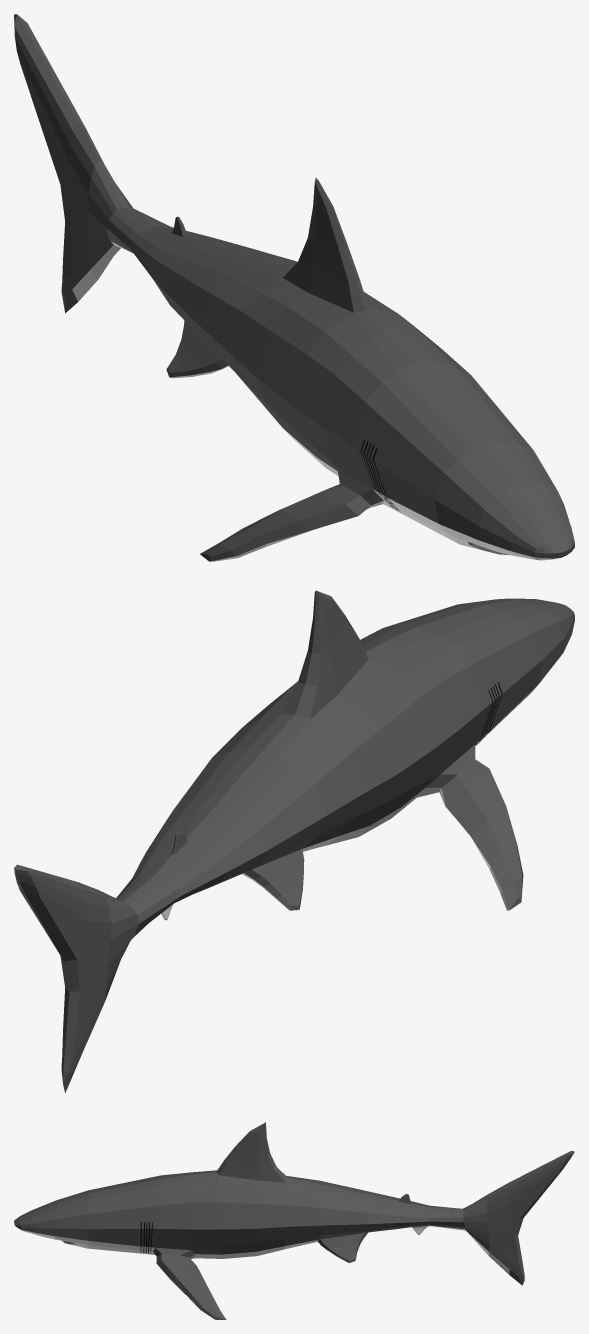
Rendered from prop_pa_shark.glb.
3 views of the same model, one above another, from view 1: azimuth 30°, elevation 25°; view 2: azimuth 150°, elevation 25°; view 3: azimuth 270°, elevation 25° (orthographic). The views are drawn at different scales.
Parts seen in each view (by area): view 1: 07sharkFinal; view 2: 07sharkFinal; view 3: 07sharkFinal.
Part boxes in pixels (bbox=[...]): 07sharkFinal: bbox=[14, 14, 574, 561]; 07sharkFinal: bbox=[14, 590, 574, 1092]; 07sharkFinal: bbox=[14, 1122, 574, 1319].
Bounding box in the file's own units: 1.43 × 1.4 × 4.35.
Materials: 1 (1 with a texture image).
